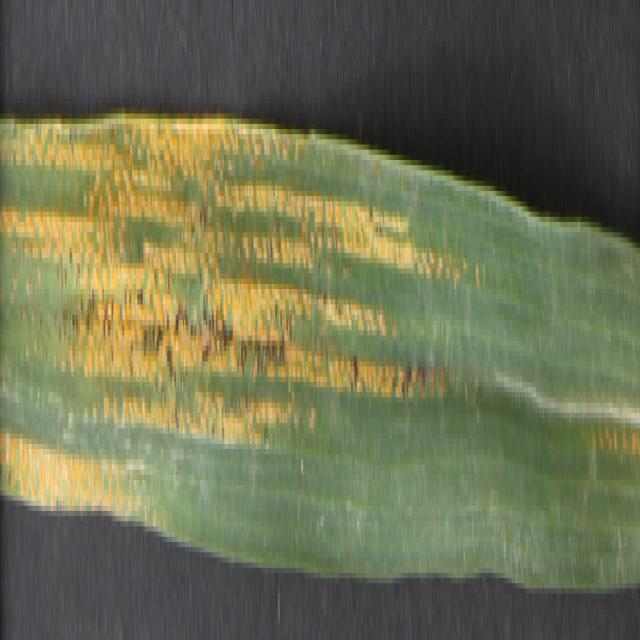leaf rust: (1, 129, 466, 516)
